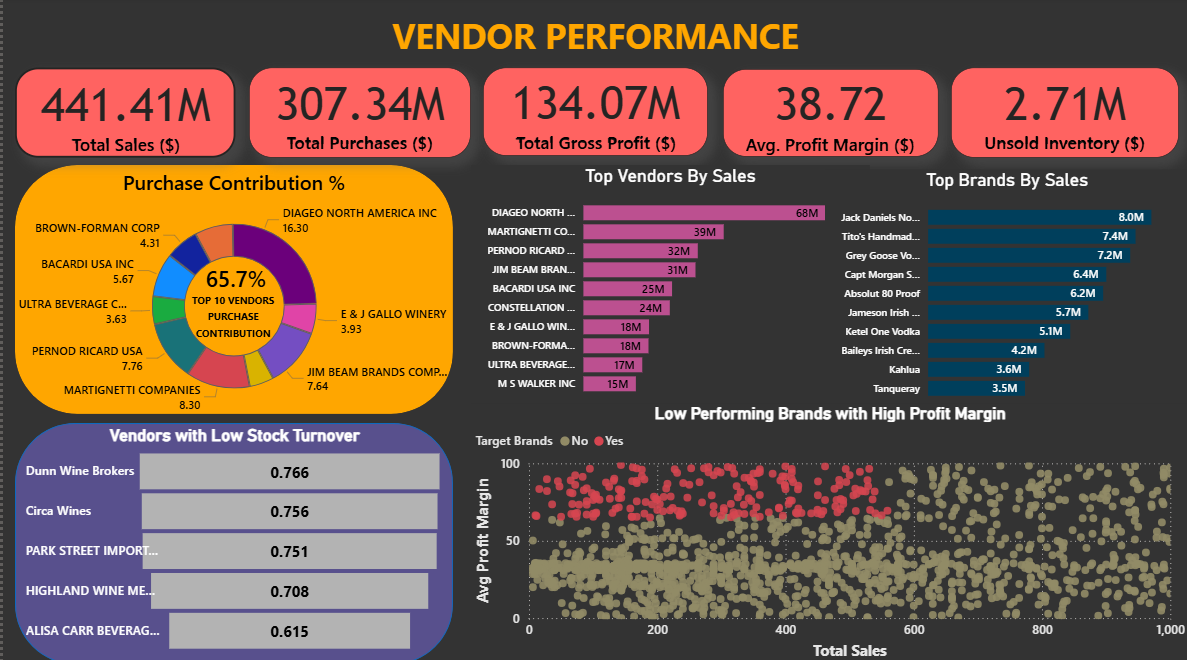

Layout of this report page (visuals, bound fields, positions):
{"tool":"powerbi","page":{"name":"Dashboard","canvas":[1280,720],"ordinal":0},"visuals":[{"type":"shape","box":[13,459.9,472.8,260.7],"z":0},{"type":"shape","box":[13,181.4,472.8,268.8],"z":1000},{"type":"textbox","box":[409.7,11.3,459.9,64.8],"z":2000},{"type":"card","fields":{"Values":["Sum(public vendor_cleaned.totalsalesdollars)"]},"box":[13,76.1,238,97.2],"z":3000},{"type":"card","fields":{"Values":["Sum(public vendor_cleaned.totalpurchasedollars)"]},"box":[265.6,76.1,239.6,97.2],"z":4000},{"type":"card","fields":{"Values":["Sum(public vendor_cleaned.GrossProfit)"]},"box":[518.2,76.1,242.9,95.5],"z":5000},{"type":"card","fields":{"Values":["Avg(public vendor_cleaned.ProfitMargin)"]},"box":[776.7,77.5,232.4,94.5],"z":6000},{"type":"card","fields":{"Values":["Sum(python_df.UnsoldInventoryValue)"]},"box":[1023.4,76.1,246.1,97.2],"z":7000},{"type":"barChart","title":"Top Vendors By Sales","fields":{"Category":["public vendor_cleaned.VendorName"],"Y":["Sum(public vendor_cleaned.totalsalesdollars)"]},"box":[505.2,181.4,430.7,257.5],"z":8000},{"type":"barChart","title":"Top Brands By Sales","fields":{"Y":["Sum(public vendor_cleaned.totalsalesdollars)"],"Category":["public vendor_cleaned.Description"]},"box":[887.3,181.4,393.5,257.5],"z":9000},{"type":"funnel","title":"Vendors with Low Stock Turnover","fields":{"Category":["LowTurnover.VendorName"],"Y":["Avg(LowTurnover.Avg_Stockturnover)"]},"box":[19,463,461.5,249.4],"z":10000},{"type":"scatterChart","title":"Low Performing Brands with High Profit Margin","fields":{"Category":["BrandPerformance.Description"],"X":["Sum(BrandPerformance.Total Sales)"],"Y":["Sum(BrandPerformance.Avg Profit Margin)"],"Series":["BrandPerformance.Target Brands"]},"box":[505.2,438.8,775.6,281.7],"z":11000},{"type":"donutChart","title":"Purchase Contribution %","fields":{"Y":["Sum(Purhase_contri.Total_purchase%)"],"Series":["Purhase_contri.VendorName"]},"box":[6.5,184.6,485.8,268.8],"z":12000},{"type":"textbox","box":[214,281,76.1,42.1],"z":13000},{"type":"textbox","box":[195.9,310.9,105.2,64.8],"z":14000},{"type":"textbox","box":[69,141,141,45.3],"z":15000},{"type":"textbox","box":[301,140,174.9,45.3],"z":16000},{"type":"textbox","box":[549,139,208.9,45.3],"z":17000},{"type":"textbox","box":[1054,140,195.9,45.3],"z":18000},{"type":"textbox","box":[796,141,208.9,45.3],"z":19000}]}

Visuals, with their boxes in screenshot pixels (x1, y1, x2, y2), scaled from the page's 1280x720 canvas onto the 1187x660 screenshot:
shape: {"x1": 12, "y1": 422, "x2": 451, "y2": 659}
shape: {"x1": 12, "y1": 166, "x2": 451, "y2": 413}
textbox: {"x1": 380, "y1": 10, "x2": 806, "y2": 70}
card - Sum(public vendor_cleaned.totalsalesdollars): {"x1": 12, "y1": 70, "x2": 233, "y2": 159}
card - Sum(public vendor_cleaned.totalpurchasedollars): {"x1": 246, "y1": 70, "x2": 468, "y2": 159}
card - Sum(public vendor_cleaned.GrossProfit): {"x1": 481, "y1": 70, "x2": 706, "y2": 157}
card - Avg(public vendor_cleaned.ProfitMargin): {"x1": 720, "y1": 71, "x2": 936, "y2": 158}
card - Sum(python_df.UnsoldInventoryValue): {"x1": 949, "y1": 70, "x2": 1177, "y2": 159}
"Top Vendors By Sales" barChart: {"x1": 468, "y1": 166, "x2": 868, "y2": 402}
"Top Brands By Sales" barChart: {"x1": 823, "y1": 166, "x2": 1186, "y2": 402}
"Vendors with Low Stock Turnover" funnel: {"x1": 18, "y1": 424, "x2": 446, "y2": 653}
"Low Performing Brands with High Profit Margin" scatterChart: {"x1": 468, "y1": 402, "x2": 1186, "y2": 659}
"Purchase Contribution %" donutChart: {"x1": 6, "y1": 169, "x2": 457, "y2": 416}
textbox: {"x1": 198, "y1": 258, "x2": 269, "y2": 296}
textbox: {"x1": 182, "y1": 285, "x2": 279, "y2": 344}
textbox: {"x1": 64, "y1": 129, "x2": 195, "y2": 171}
textbox: {"x1": 279, "y1": 128, "x2": 441, "y2": 170}
textbox: {"x1": 509, "y1": 127, "x2": 703, "y2": 169}
textbox: {"x1": 977, "y1": 128, "x2": 1159, "y2": 170}
textbox: {"x1": 738, "y1": 129, "x2": 932, "y2": 171}
